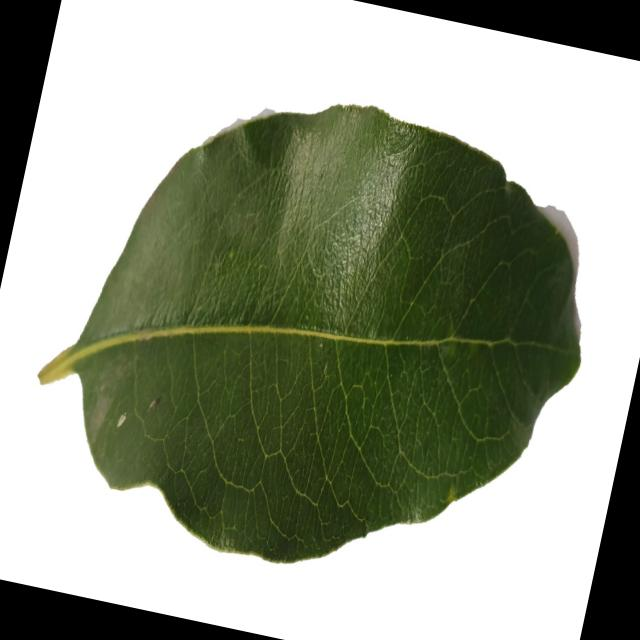Medicinal-Sandalwood: (8, 48, 625, 622)
